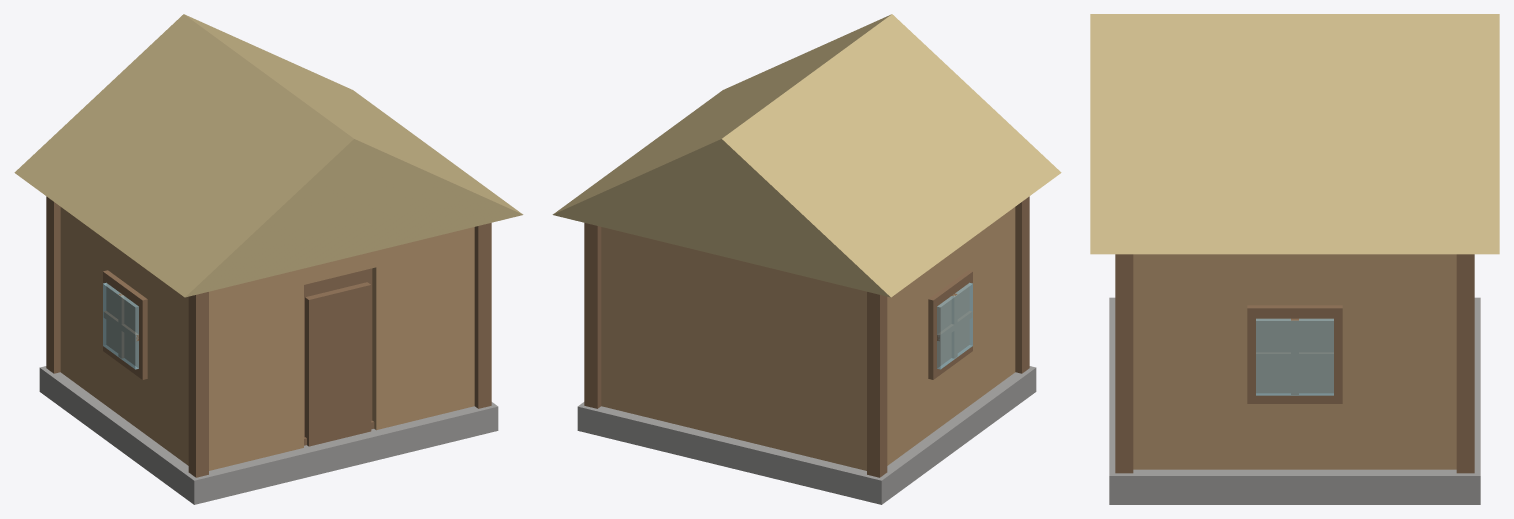
The model's file is BLD-hut-02.glb.
The picture shows the model from 3 angles, left to right: view 1: azimuth 30°, elevation 25°; view 2: azimuth 150°, elevation 25°; view 3: azimuth 270°, elevation 25°; orthographic projection. The views are drawn at different scales.
Visible parts, largest first — view 1: BLD-hut-02; view 2: BLD-hut-02; view 3: BLD-hut-02.
Part boxes in pixels (x1=…): BLD-hut-02: x1=14, y1=14, x2=523, y2=504; BLD-hut-02: x1=552, y1=14, x2=1061, y2=504; BLD-hut-02: x1=1090, y1=14, x2=1499, y2=504.
Bounding box in the file's own units: 4.68 × 4.42 × 4.08.
